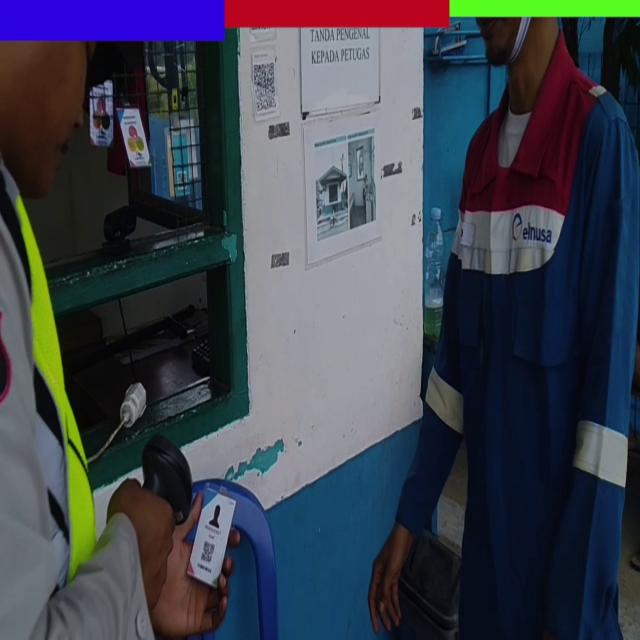No Glove: (150, 497, 238, 636), (110, 480, 164, 606), (367, 523, 410, 632)
No Overall Suit: (0, 177, 144, 640)
Overall Suit: (394, 83, 640, 639)
Strapped: (505, 20, 532, 68)
